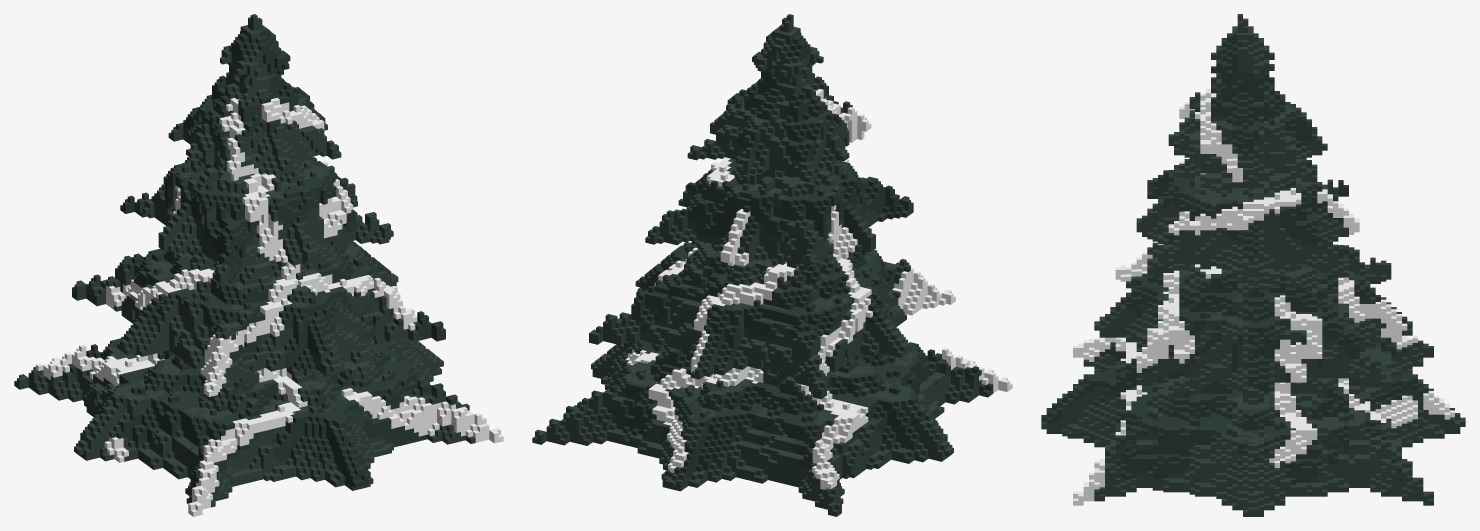
The model's file is TreeCrownSnowy.obj.
3 renders of one model, left to right at view 1: azimuth 30°, elevation 25°; view 2: azimuth 150°, elevation 25°; view 3: azimuth 270°, elevation 25°, orthographic. The views are drawn at different scales.
Bounding box in the file's own units: 8 × 8.7 × 8.
1 material, 1 textured.
